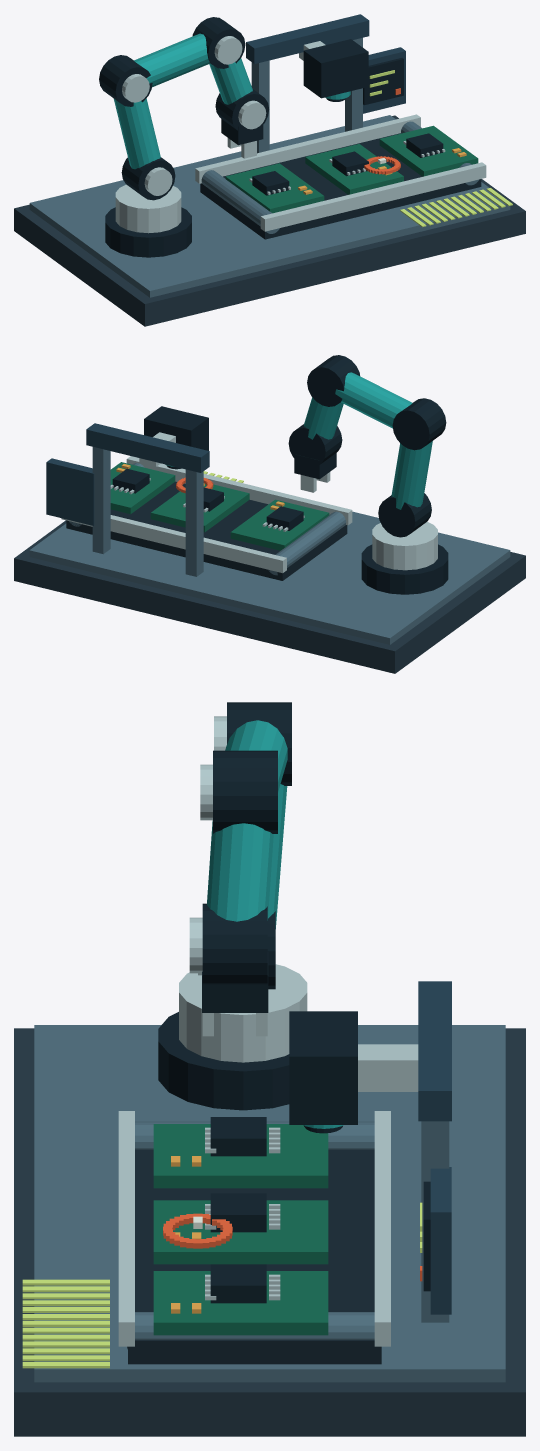
The model's file is inspection-station.glb.
3 views of the same model, one above another, from view 1: azimuth 30°, elevation 25°; view 2: azimuth 150°, elevation 25°; view 3: azimuth 270°, elevation 25° (orthographic). The views are drawn at different scales.
Bounding box in the file's own units: 0.74 × 0.4215 × 0.44.
